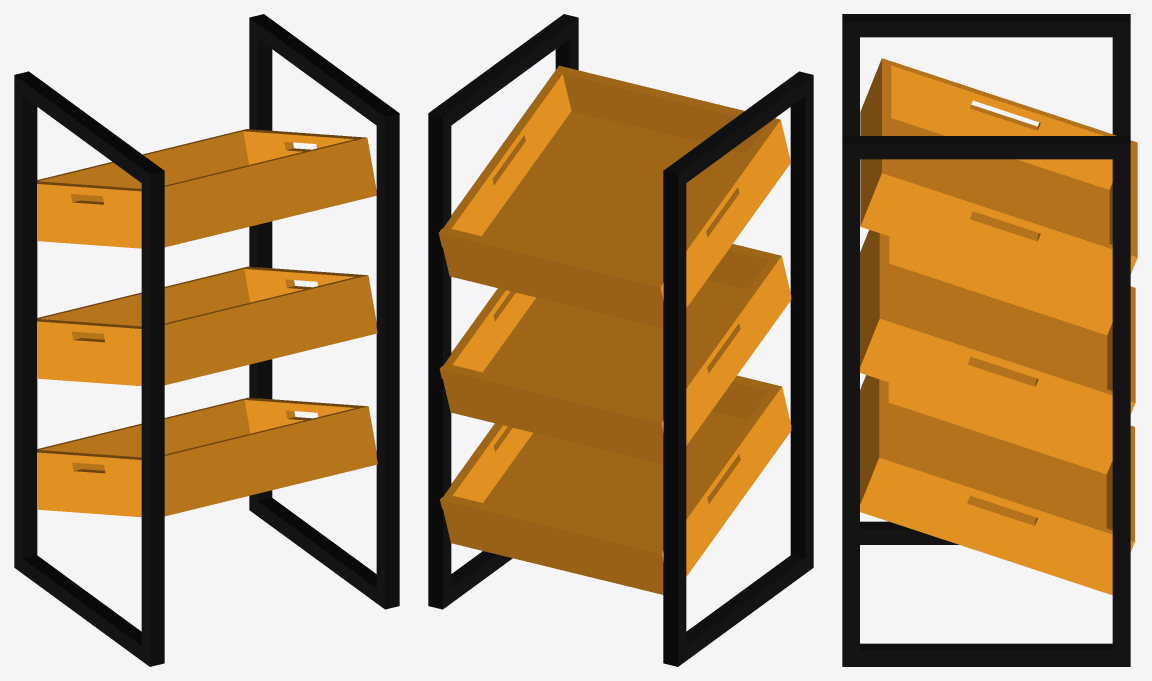
Rendered from Shelf 10.fbx.
3 renders of one model, left to right at view 1: azimuth 30°, elevation 25°; view 2: azimuth 150°, elevation 25°; view 3: azimuth 270°, elevation 25°, orthographic. The views are drawn at different scales.
Parts seen in each view (by area): view 1: Node 0; view 2: Node 0; view 3: Node 0.
Part boxes in pixels (bbox=[...]): Node 0: bbox=[14, 14, 399, 666]; Node 0: bbox=[428, 14, 813, 666]; Node 0: bbox=[842, 14, 1137, 666].
Size of the model in its own units: 0.6125 by 1.2 by 0.6354.
